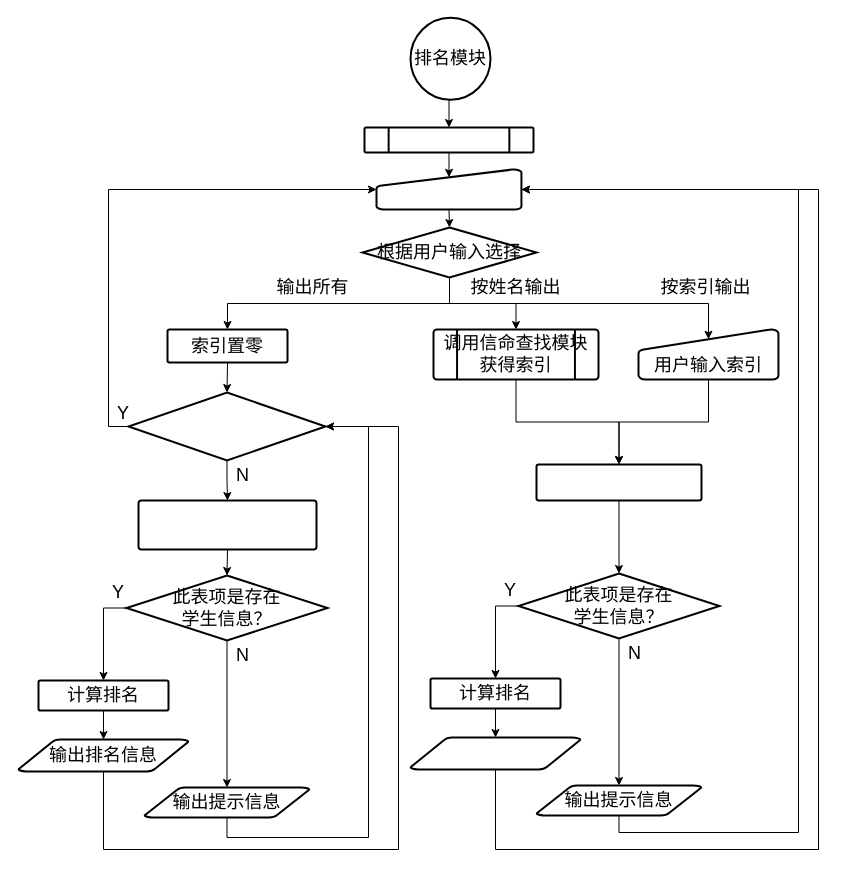
Some shapes in this 844 by 876 pixel diagram are drawn without their labels. The centre of each missing label's shape, as x and y in pixels:
"从表中取出索引对应表项，索引加1" belongs at point (227, 524).
"刷新平均成绩" belongs at point (448, 139).
"是否已经遍历完毕？" belongs at point (226, 426).
"根据索引取得表项" belongs at point (618, 482).
"用户输入子选项" belongs at point (448, 189).
"输出学生信息" belongs at point (495, 753).
